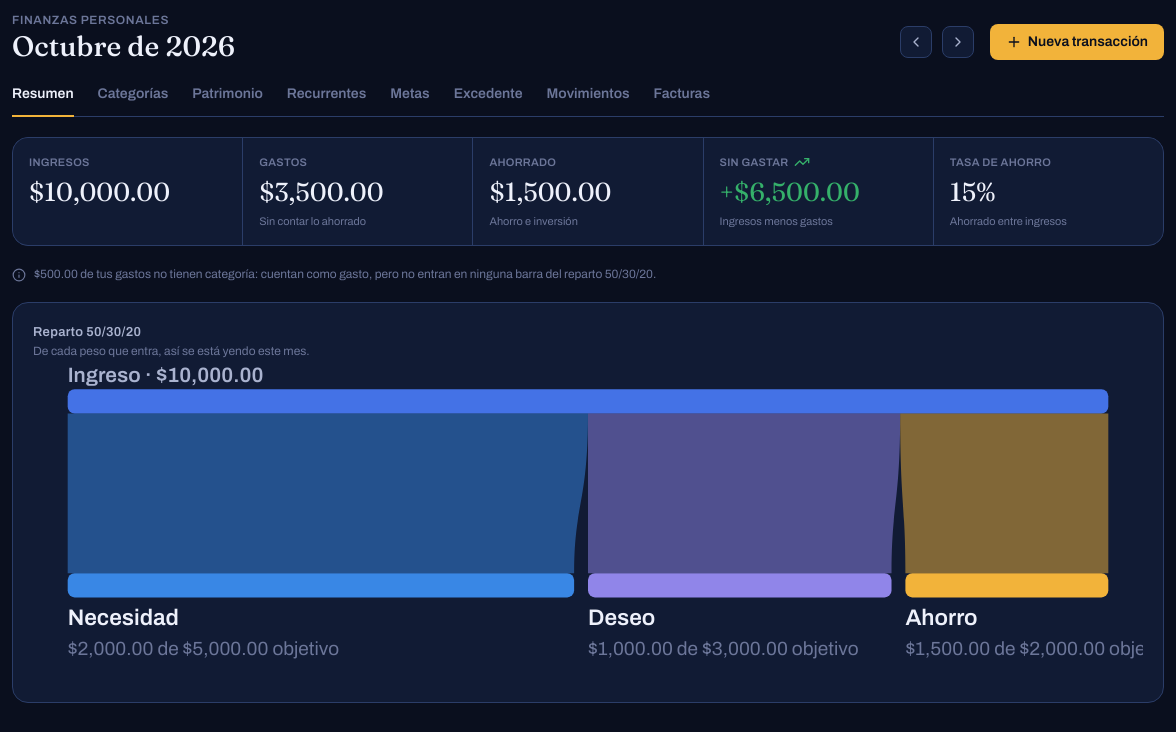
Test: FinanceDashboard › shows the month with spending, saved and not-spent, and the uncategorized row in the breakdown
The width and height of the screenshot is (1176, 732).
Click the tab "Categorías" at coordinates (133, 98), box [98,80,168,116]
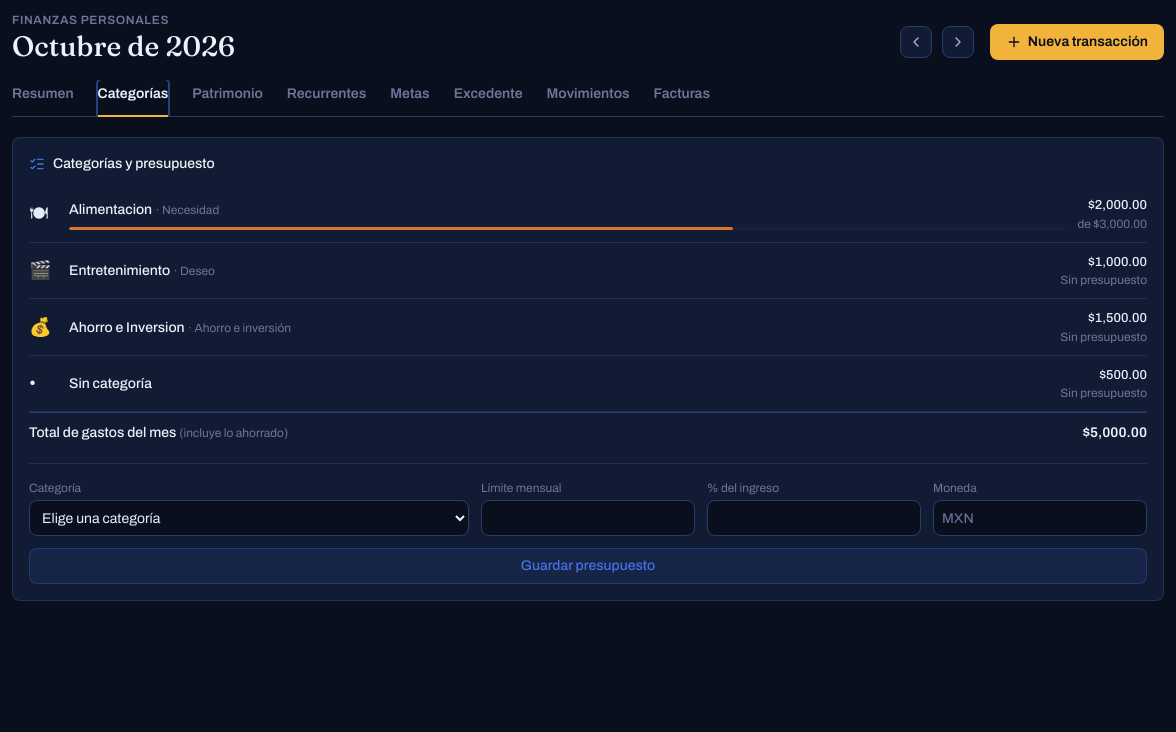
Check: the text "Sin categoría" is shown, box [69,376,152,391]
Check: the text "Alimentacion" is shown, box [69,202,152,217]
Check: the text "Entretenimiento" is shown, box [69,263,170,278]
